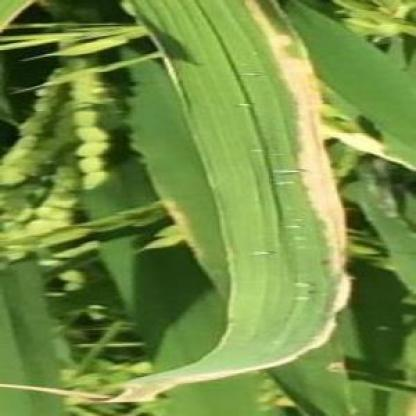Blight: (88, 1, 355, 405)
